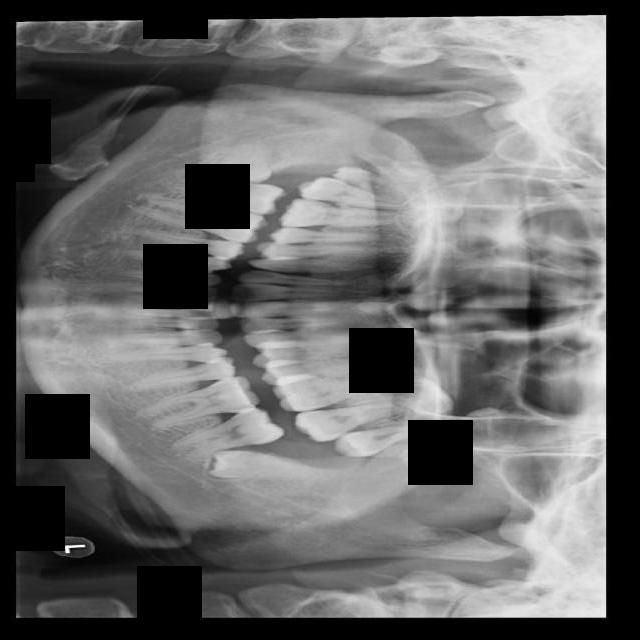3M ESPE Implant: (331, 160, 408, 202)
52: (204, 367, 262, 425), (275, 195, 332, 228)
73: (66, 586, 74, 594)
BioHorizons Implant: (292, 395, 421, 445)
BioLife Implant: (331, 419, 433, 462)
Biomet 3i Implant: (206, 451, 319, 478)
Blue Sky Bio Implant: (172, 401, 285, 463)
Caries: (295, 174, 409, 210)
Implant: (169, 176, 287, 217)
Keystone Dental Implant: (204, 132, 272, 191)
